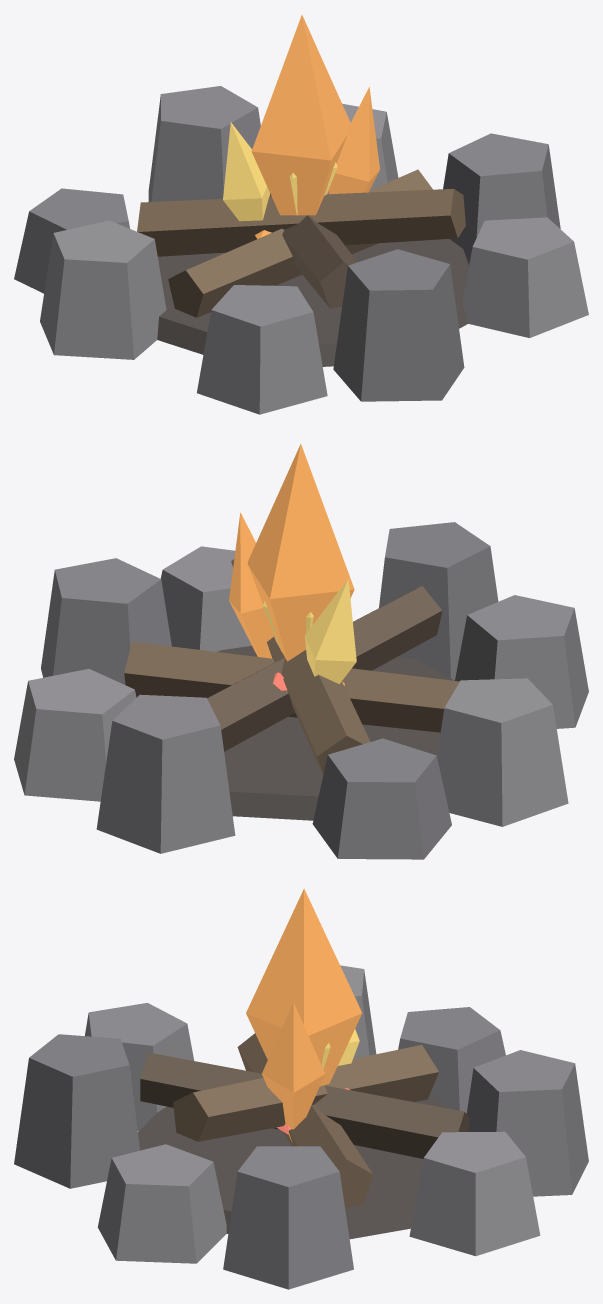
The model's file is fire_pit.glb.
The picture shows the model from 3 angles, top to bottom: view 1: azimuth 30°, elevation 25°; view 2: azimuth 150°, elevation 25°; view 3: azimuth 270°, elevation 25°; orthographic projection. The views are drawn at different scales.
Visible parts, largest first — view 1: mesh_stones, mesh_logs, mesh_flame, mesh_tongue_a, mesh_tongue_b; view 2: mesh_stones, mesh_logs, mesh_flame, mesh_tongue_b, mesh_tongue_a; view 3: mesh_stones, mesh_logs, mesh_flame, mesh_tongue_a.
Boxes of the visible parts, x1,y1,x2,y2 form: mesh_stones: [14, 86, 588, 414]; mesh_logs: [137, 169, 465, 317]; mesh_flame: [251, 15, 350, 215]; mesh_tongue_a: [328, 87, 379, 194]; mesh_tongue_b: [223, 122, 269, 221]; mesh_stones: [14, 522, 588, 859]; mesh_logs: [124, 559, 459, 775]; mesh_flame: [247, 444, 354, 661]; mesh_tongue_b: [304, 579, 356, 684]; mesh_tongue_a: [229, 512, 273, 658]; mesh_stones: [14, 965, 588, 1289]; mesh_logs: [140, 1033, 469, 1207]; mesh_flame: [246, 888, 362, 1086]; mesh_tongue_a: [262, 1002, 324, 1141].
Bounding box in the file's own units: 1.09 × 0.58 × 1.09.
